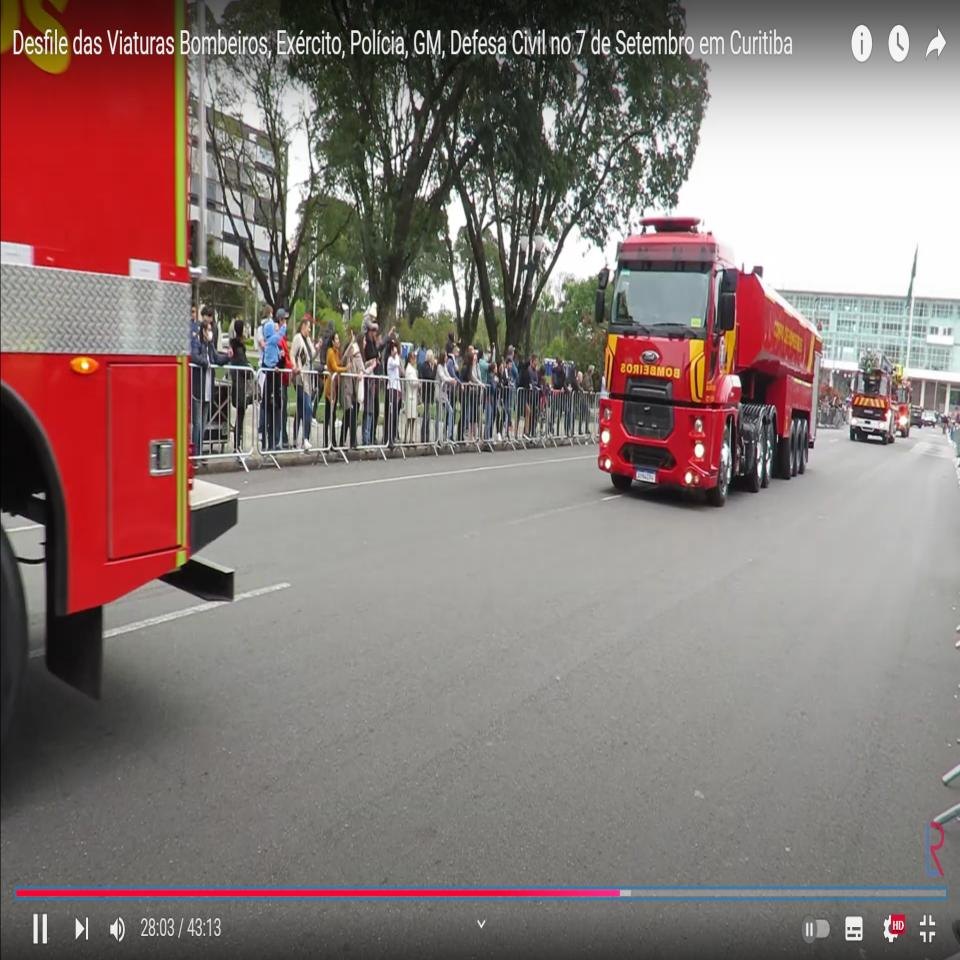viatura: (595, 213, 822, 508)
